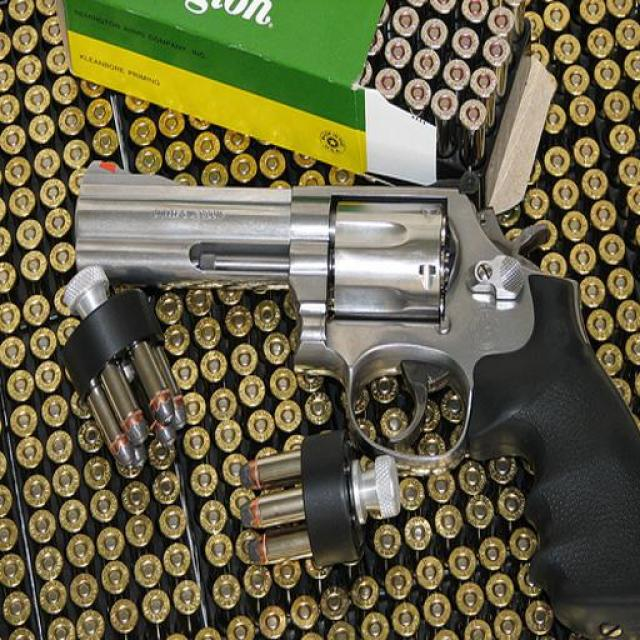pistol: (76, 156, 640, 640)
